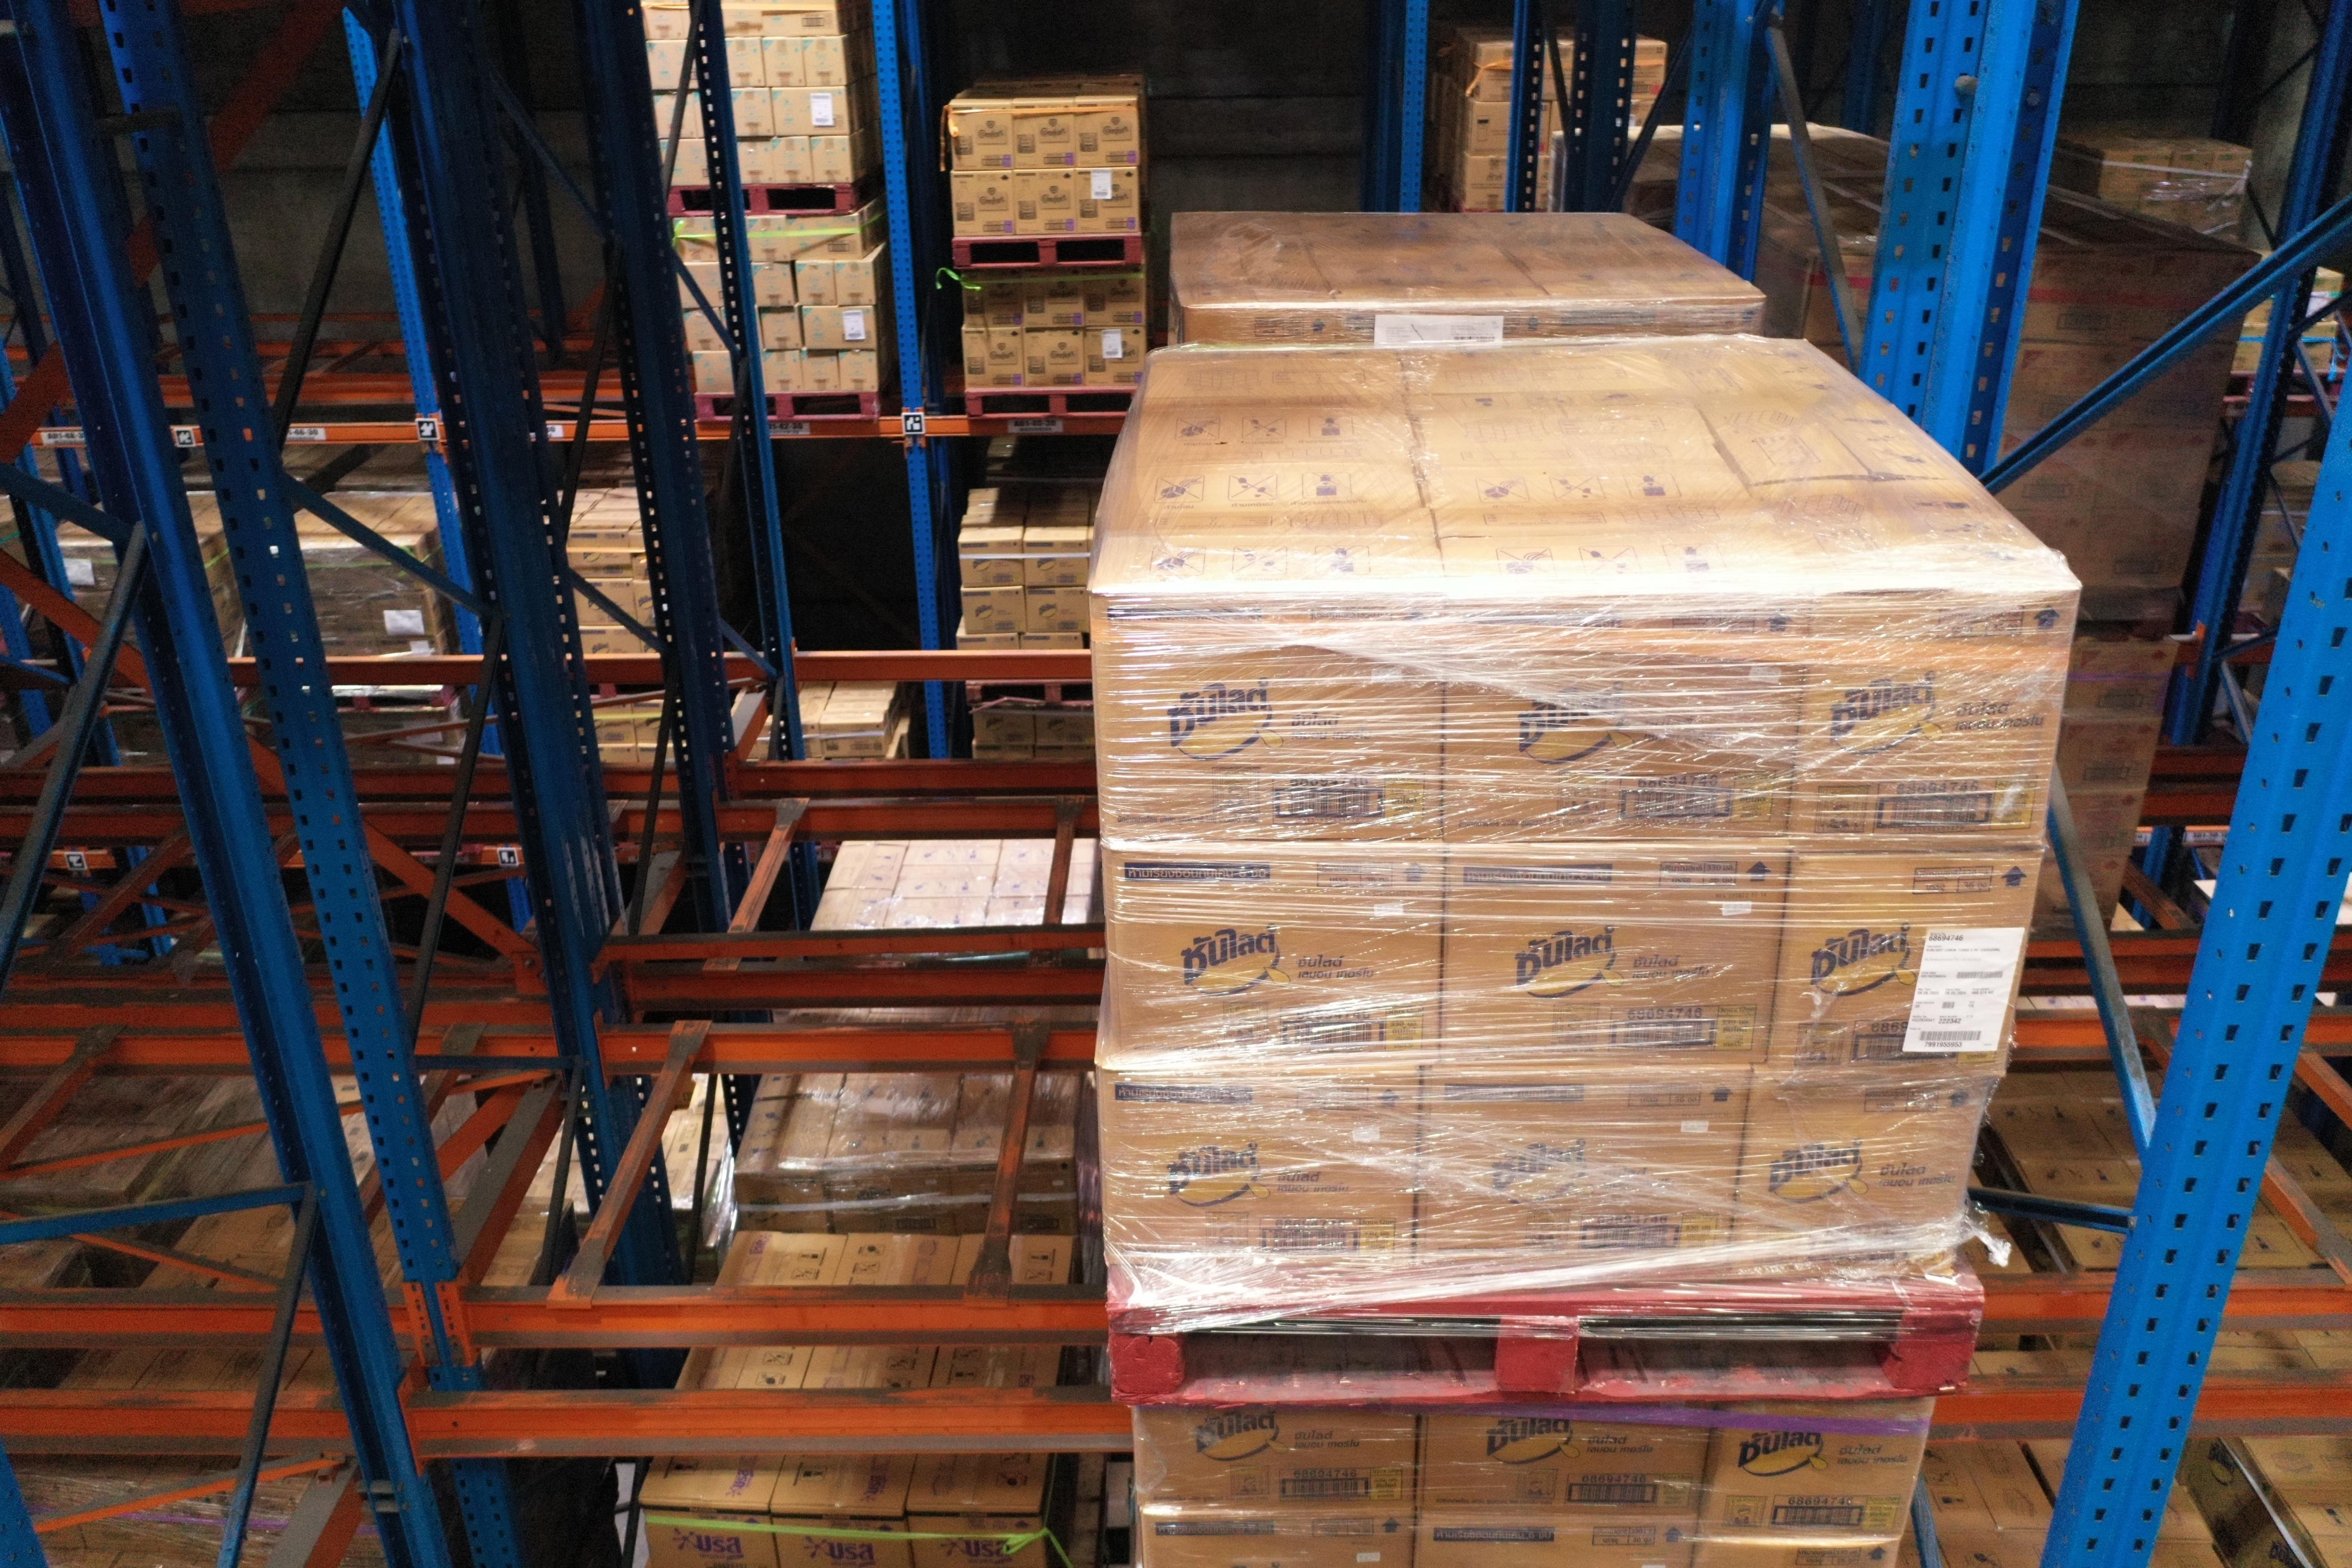-: (1442, 595, 1809, 849), (1090, 588, 1449, 842), (1788, 588, 2082, 856), (1435, 847, 1790, 1067), (1104, 845, 1444, 1071), (1412, 1067, 1752, 1272), (1101, 1071, 1421, 1274), (1764, 850, 2042, 1074), (1731, 1074, 2004, 1269), (1416, 1402, 1713, 1515), (1696, 1403, 1932, 1542), (1134, 1405, 1416, 1517), (1414, 1510, 1699, 1568), (1139, 1508, 1414, 1568), (1694, 1536, 1900, 1568)
